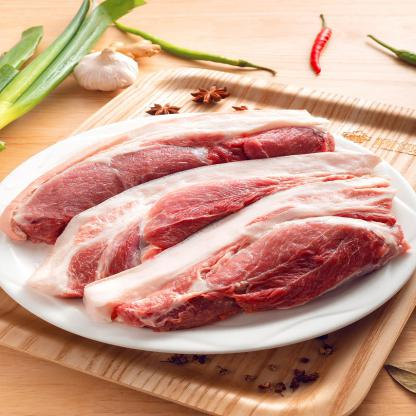chilli: (309, 16, 332, 74)
garlic: (70, 44, 139, 94)
